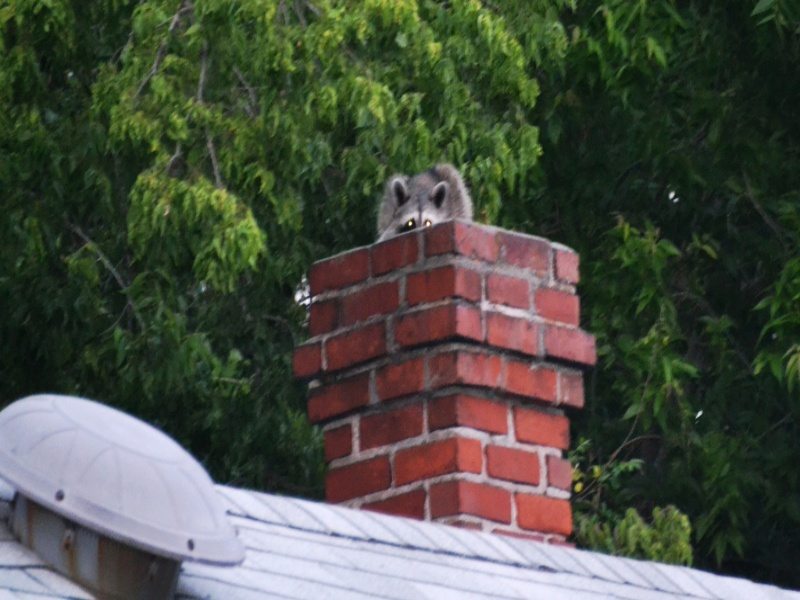raccoon: (375, 159, 472, 246)
